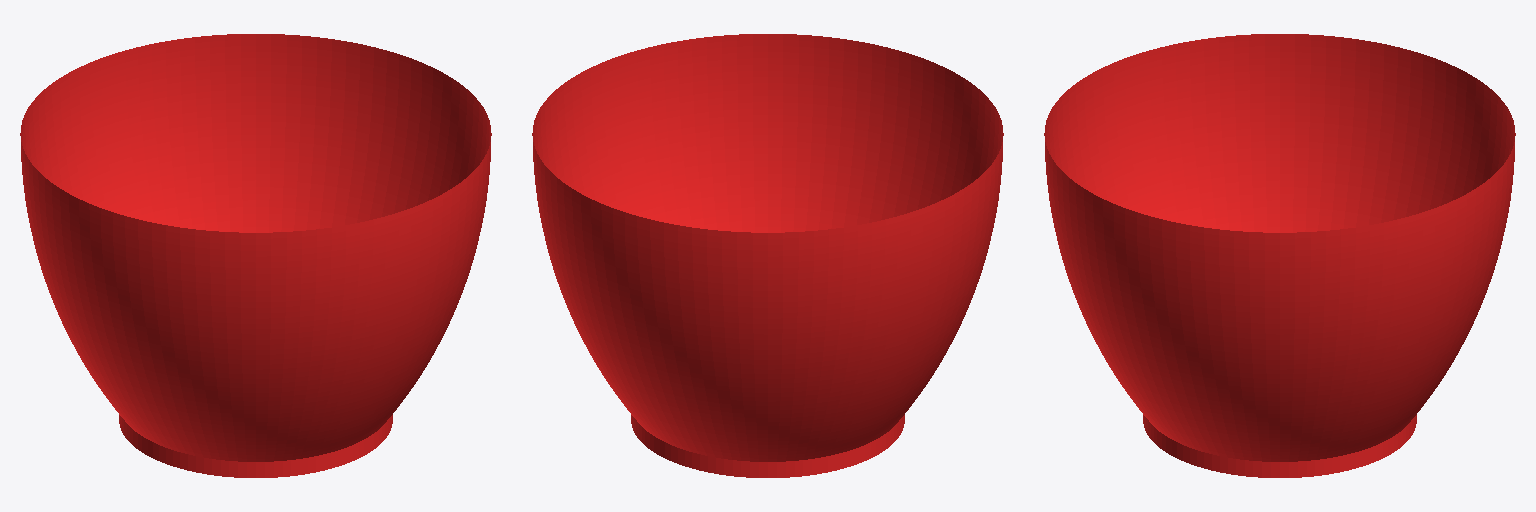
The robot description file, URDF, robot "bowl":
<?xml version="0.0" ?>
<robot name="bowl">
    <link concave="yes" name="base_link">
        <!-- <contact>
            <lateral_friction value="3.0"/>
            <rolling_friction value="3.0"/>
            <spinning_friction value="3.0"/>
        </contact> -->
        <inertial>
            <origin xyz="0 0 0.03"/>
            <mass value="1"/>
            <inertia ixx="1" ixy="0" ixz="0" iyy="1" iyz="0" izz="1"/>
        </inertial>
        <visual>
            <origin xyz="0 0 0"/>
            <geometry>
                <mesh filename="bowl.obj" scale="0.002 0.002 0.002 "/>
            </geometry>
      <material name="bowl">
        <color rgba="1 0.2 0.2 1"/>
        <specular rgb="1 1 1"/>
      </material>
        </visual>
        <collision concave="yes">
            <origin xyz="0 0 0"/>
            <geometry>
                <mesh filename="bowl.obj" scale="0.002 0.002 0.002 "/>
            </geometry>
        </collision>
    </link>
</robot>

--- Render facts (derived) ---
The picture shows the robot from 3 angles, left to right: view 1: azimuth 30°, elevation 25°; view 2: azimuth 150°, elevation 25°; view 3: azimuth 270°, elevation 25°; orthographic projection.
Model bowl with 1 links and 0 joints (none), rooted at base_link, posed every joint at zero.
Visible links, largest first — view 1: base_link; view 2: base_link; view 3: base_link.
Boxes of the visible links, box(x1,y1,x2,y2) form: base_link: box(20, 34, 491, 477); base_link: box(532, 34, 1003, 477); base_link: box(1044, 34, 1515, 477).
Bounding box of the posed robot: 0.1023 × 0.1023 × 0.0689 m (x, y, z).
1 mesh visuals loaded from 1 distinct referenced files (1 OBJ).